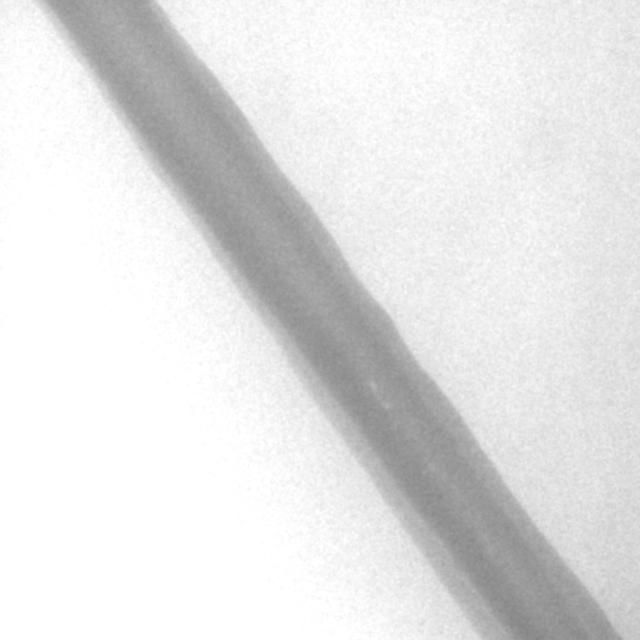air hole: (367, 380, 377, 394), (381, 398, 391, 412)
